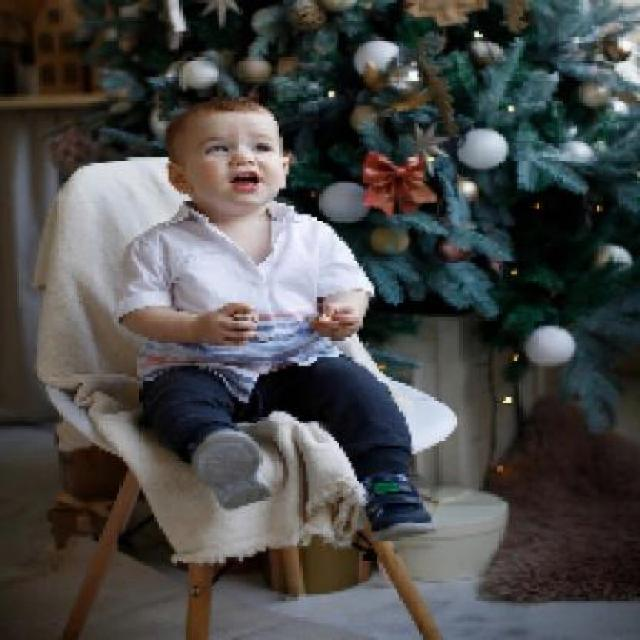child: (114, 96, 437, 542)
